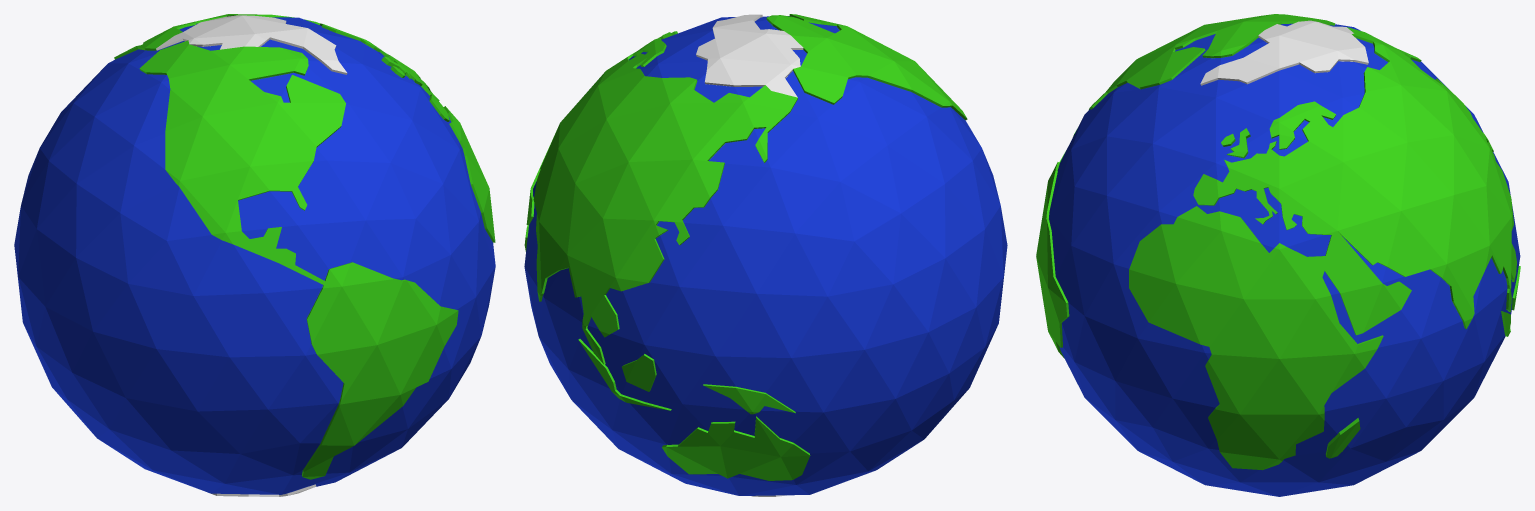
Rendered from earth.glb.
3 renders of one model, left to right at view 1: azimuth 30°, elevation 25°; view 2: azimuth 150°, elevation 25°; view 3: azimuth 270°, elevation 25°, orthographic.
Visible parts, largest first — view 1: Icosphere.001; view 2: Icosphere.001; view 3: Icosphere.001.
Part boxes in pixels (x1,y1,x2,y2): Icosphere.001: (14,14,495,496); Icosphere.001: (524,14,1007,496); Icosphere.001: (1036,14,1520,496).
Bounding box in the file's own units: 2.01 × 2.02 × 2.01.
